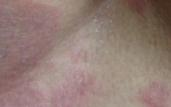plaque psoriasis: (0, 0, 89, 107), (145, 79, 167, 107), (114, 0, 148, 18)
